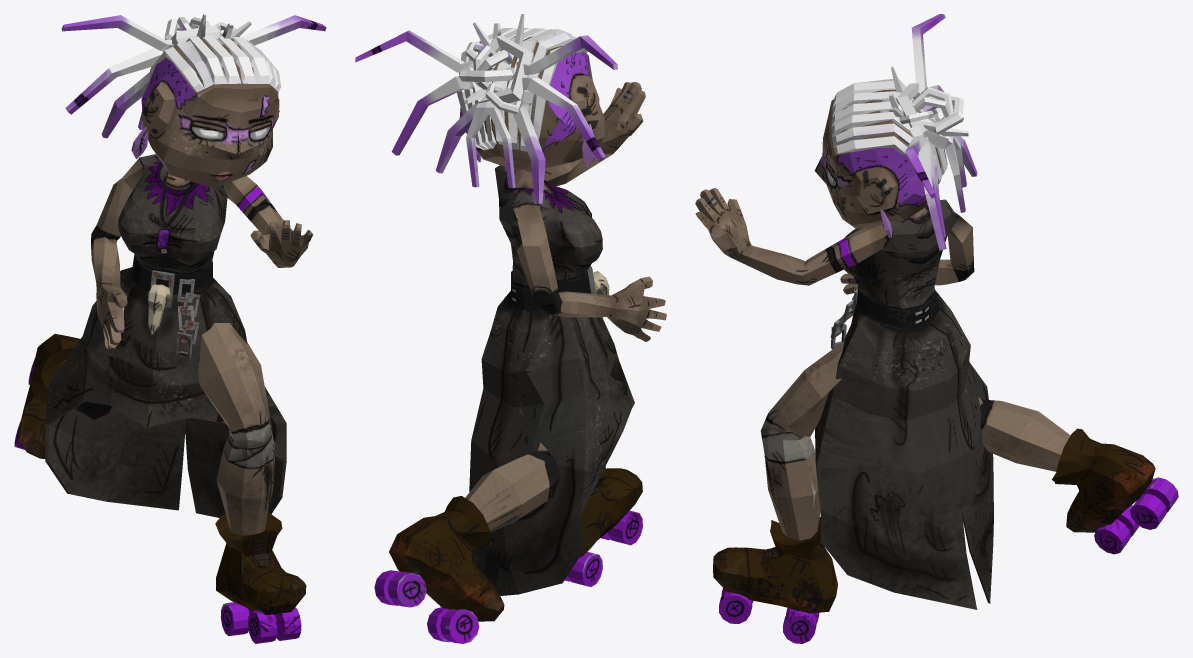
Rendered from bruja_000018.obj.
The picture shows the model from 3 angles, left to right: view 1: azimuth 30°, elevation 25°; view 2: azimuth 150°, elevation 25°; view 3: azimuth 270°, elevation 25°; orthographic projection. The views are drawn at different scales.
Parts seen in each view (by area): view 1: Bruja_Plane.001; view 2: Bruja_Plane.001; view 3: Bruja_Plane.001.
Boxes of the visible parts, x1,y1,x2,y2 form: Bruja_Plane.001: [14, 14, 326, 643]; Bruja_Plane.001: [355, 14, 666, 643]; Bruja_Plane.001: [695, 14, 1178, 643].
Size of the model in its own units: 7.31 by 15.91 by 12.11.
